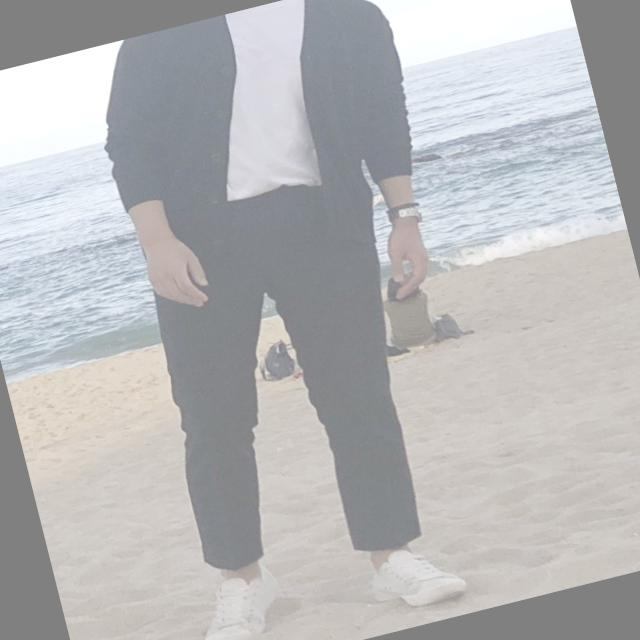cardigan: (81, 0, 434, 285)
slacks: (124, 156, 448, 594)
